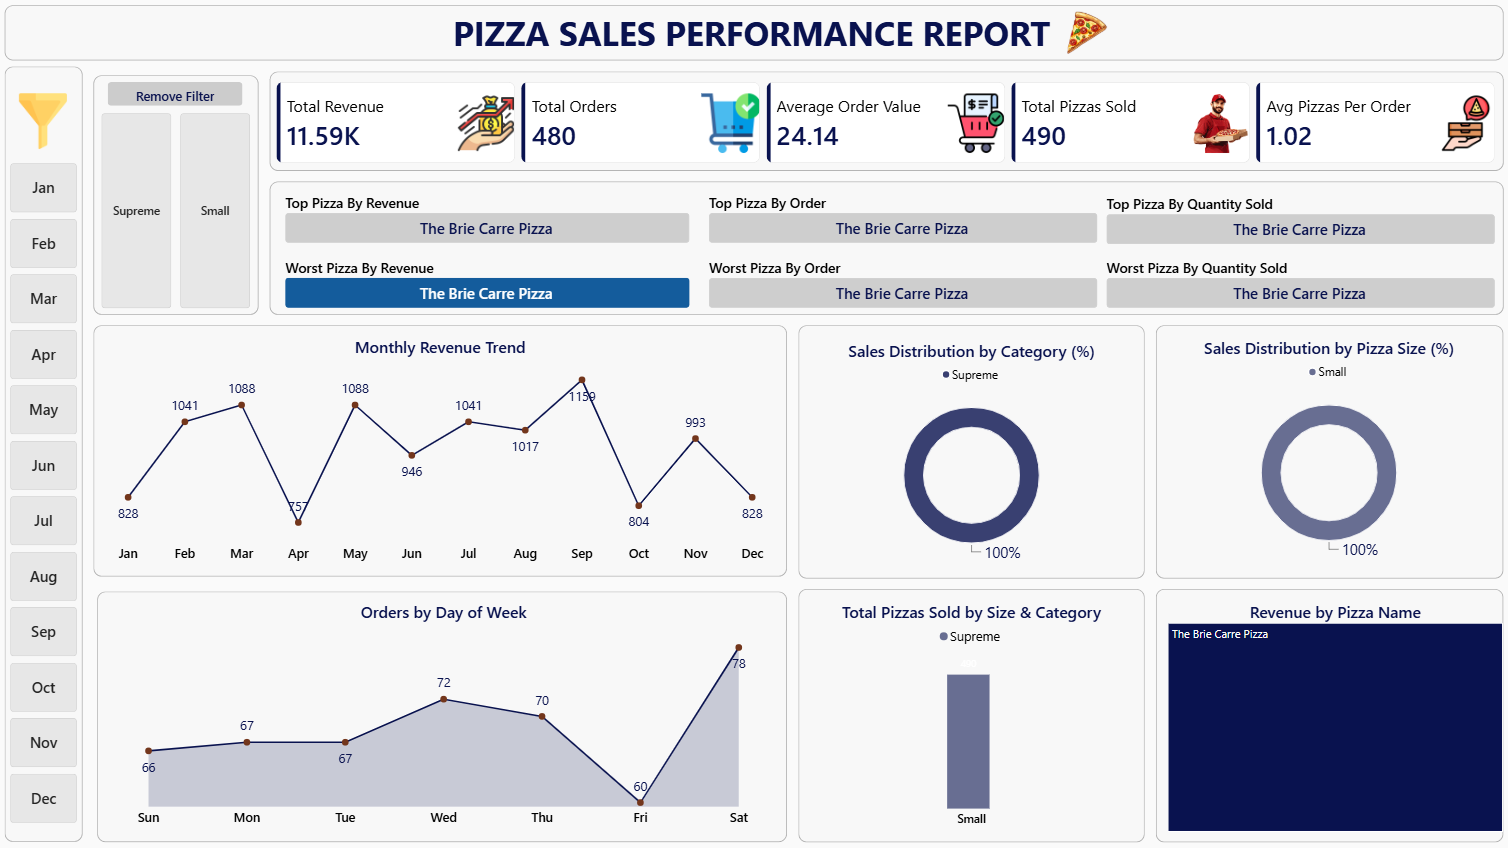

What the dashboard file says about the page in this screenshot:
{"tool":"powerbi","page":{"name":"DASHBOARD","canvas":[1920,1080],"ordinal":0},"visuals":[{"type":"shape","box":[12.9,10,1892.9,71.4],"z":0,"group":"g1"},{"type":"group","id":"g1","title":"Group 1","box":[12.9,10,1892.9,1058.6],"z":0},{"type":"advancedSlicerVisual","title":"Top Pizza By Revenue","fields":{"Values":["PIZZA SALES.pizza_name"]},"box":[368.6,247.6,510,62.9],"z":0,"group":"g2"},{"type":"shape","box":[13.2,88,100,980],"z":1000,"group":"g1"},{"type":"cardVisual","fields":{"Data":["PIZZA SALES.Total Revenue","PIZZA SALES.Total Orders","PIZZA SALES.Average Order Value","PIZZA SALES.Total Pizzas Sold","PIZZA SALES.Avg Pizzas Per Order"]},"box":[357.1,107.1,1537.1,102.9],"z":1000},{"type":"advancedSlicerVisual","title":"Worst Pizza By Revenue","fields":{"Values":["PIZZA SALES.pizza_name"]},"box":[368.6,329,510,62.9],"z":1000,"group":"g2"},{"type":"shape","box":[125.2,98,210,304],"z":2000,"group":"g1"},{"type":"lineChart","title":"Monthly Revenue Trend","fields":{"Category":["PIZZA SALES.Month Name"],"Y":["PIZZA SALES.Total Revenue"]},"box":[125.6,413.3,876.7,322.2],"z":2000},{"type":"shape","box":[124.2,413.3,876.7,318.9],"z":3000,"group":"g1"},{"type":"lineChart","title":"Orders by Day of Week","fields":{"Category":["PIZZA SALES.Day Name"],"Y":["PIZZA SALES.Total Orders"]},"box":[130,748,876,320],"z":3000},{"type":"donutChart","title":"Sales Distribution by Category (%)","fields":{"Category":["PIZZA SALES.pizza_category"],"Y":["PIZZA SALES.Total Revenue"]},"box":[1014.3,418.6,438.6,314.3],"z":4000},{"type":"shape","box":[129.2,750,872,318],"z":4000,"group":"g1"},{"type":"shape","box":[1014.3,414.3,438.6,321.4],"z":5000,"group":"g1"},{"type":"donutChart","title":"Sales Distribution by Pizza Size (%)","fields":{"Category":["PIZZA SALES.pizza_size"],"Y":["PIZZA SALES.Total Revenue"]},"box":[1465.7,414.3,438.6,314.3],"z":5000},{"type":"shape","box":[1465.8,414.3,440,321.4],"z":6000,"group":"g1"},{"type":"columnChart","title":"Total Pizzas Sold by Size & Category","fields":{"Category":["PIZZA SALES.pizza_size"],"Series":["PIZZA SALES.pizza_category"],"Y":["PIZZA SALES.Total Pizzas Sold"]},"box":[1014.3,747.1,438.6,321.4],"z":6000},{"type":"shape","box":[347.2,92.9,1558.6,127.1],"z":7000,"group":"g1"},{"type":"treemap","title":"Revenue by Pizza Name","fields":{"Group":["PIZZA SALES.pizza_name"],"Values":["PIZZA SALES.Total Revenue"]},"box":[1465.7,747.1,454.3,321.4],"z":7000},{"type":"shape","box":[347.2,232.9,1558.6,170],"z":8000,"group":"g1"},{"type":"advancedSlicerVisual","title":"Top Pizza By Order","fields":{"Values":["PIZZA SALES.pizza_name"]},"box":[902.9,247.8,490,62.9],"z":8000},{"type":"advancedSlicerVisual","title":"Worst Pizza By Order","fields":{"Values":["PIZZA SALES.pizza_name"]},"box":[902.9,329.2,490,62.9],"z":9000},{"type":"shape","box":[1014.3,747.1,438.6,321.4],"z":9000,"group":"g1"},{"type":"group","id":"g2","title":"Group 3","box":[368.6,247.6,510,144.3],"z":10000},{"type":"shape","box":[1465.8,747.1,440,321.4],"z":10000,"group":"g1"},{"type":"advancedSlicerVisual","title":"Top Pizza By Quantity Sold","fields":{"Values":["PIZZA SALES.pizza_name"]},"box":[1404.3,249,490,62.9],"z":11000},{"type":"advancedSlicerVisual","title":"Worst Pizza By Quantity Sold","fields":{"Values":["PIZZA SALES.pizza_name"]},"box":[1404.3,330.4,490,62.9],"z":12000},{"type":"advancedSlicerVisual","fields":{"Values":["PIZZA SALES.Month Name"]},"box":[21,210,84,842],"z":13000},{"type":"advancedSlicerVisual","fields":{"Values":["PIZZA SALES.pizza_category"]},"box":[136.5,147.5,88.5,246],"z":14000},{"type":"advancedSlicerVisual","fields":{"Values":["PIZZA SALES.pizza_size"]},"box":[235.5,147.5,88.5,246],"z":15000},{"type":"actionButton","box":[144.3,107.1,170,30],"z":15001},{"type":"image","box":[17.1,121.4,88.6,70],"z":15002},{"type":"textbox","box":[10,8,1892.9,71.4],"z":15003},{"type":"image","box":[1327.1,14.3,101.4,62.9],"z":15004},{"type":"textbox","box":[105.7,21.4,184.3,47.1],"z":15006}]}

Visuals, with their boxes in screenshot pixels (x1, y1, x2, y2), scaled from the page's 1920x1080 canvas onto the 1508x848 screenshot:
shape: detection(10, 8, 1497, 64)
"Group 1" group: detection(10, 8, 1497, 839)
"Top Pizza By Revenue" advancedSlicerVisual: detection(290, 194, 690, 244)
shape: detection(10, 69, 89, 839)
cardVisual - PIZZA SALES.Total Revenue x PIZZA SALES.Total Orders: detection(280, 84, 1488, 165)
"Worst Pizza By Revenue" advancedSlicerVisual: detection(290, 258, 690, 308)
shape: detection(98, 77, 263, 316)
"Monthly Revenue Trend" lineChart: detection(99, 325, 787, 578)
shape: detection(98, 325, 786, 575)
"Orders by Day of Week" lineChart: detection(102, 587, 790, 839)
"Sales Distribution by Category (%)" donutChart: detection(797, 329, 1141, 575)
shape: detection(101, 589, 786, 839)
shape: detection(797, 325, 1141, 578)
"Sales Distribution by Pizza Size (%)" donutChart: detection(1151, 325, 1496, 572)
shape: detection(1151, 325, 1497, 578)
"Total Pizzas Sold by Size & Category" columnChart: detection(797, 587, 1141, 839)
shape: detection(273, 73, 1497, 173)
"Revenue by Pizza Name" treemap: detection(1151, 587, 1507, 839)
shape: detection(273, 183, 1497, 316)
"Top Pizza By Order" advancedSlicerVisual: detection(709, 195, 1094, 244)
"Worst Pizza By Order" advancedSlicerVisual: detection(709, 258, 1094, 308)
shape: detection(797, 587, 1141, 839)
"Group 3" group: detection(290, 194, 690, 308)
shape: detection(1151, 587, 1497, 839)
"Top Pizza By Quantity Sold" advancedSlicerVisual: detection(1103, 196, 1488, 245)
"Worst Pizza By Quantity Sold" advancedSlicerVisual: detection(1103, 259, 1488, 309)
advancedSlicerVisual - PIZZA SALES.Month Name: detection(16, 165, 82, 826)
advancedSlicerVisual - PIZZA SALES.pizza_category: detection(107, 116, 177, 309)
advancedSlicerVisual - PIZZA SALES.pizza_size: detection(185, 116, 254, 309)
actionButton: detection(113, 84, 247, 108)
image: detection(13, 95, 83, 150)
textbox: detection(8, 6, 1495, 62)
image: detection(1042, 11, 1122, 61)
textbox: detection(83, 17, 228, 54)
